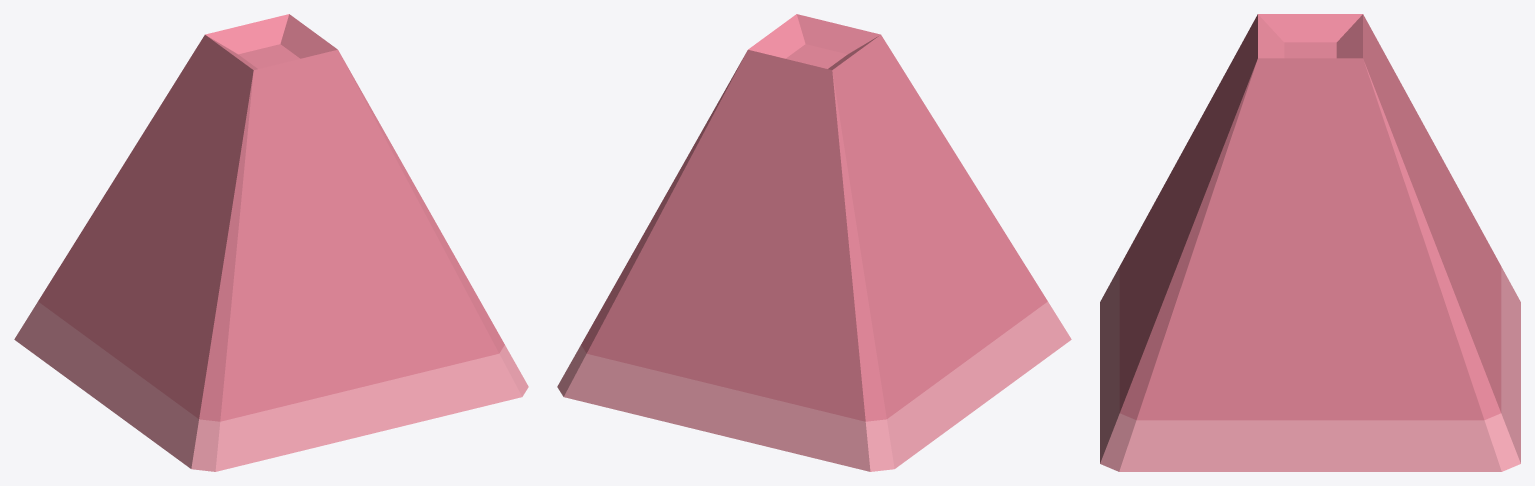
3 renders of one model, left to right at view 1: azimuth 30°, elevation 25°; view 2: azimuth 150°, elevation 25°; view 3: azimuth 270°, elevation 25°, orthographic. The views are drawn at different scales.
Visible parts, largest first — view 1: roofHighPoint; view 2: roofHighPoint; view 3: roofHighPoint.
Boxes of the visible parts, left/top/right/bottom form: roofHighPoint: left=14, top=14, right=528, bottom=471; roofHighPoint: left=557, top=14, right=1071, bottom=471; roofHighPoint: left=1100, top=14, right=1520, bottom=471.
Bounding box in the file's own units: 1.1 × 1 × 1.1.
